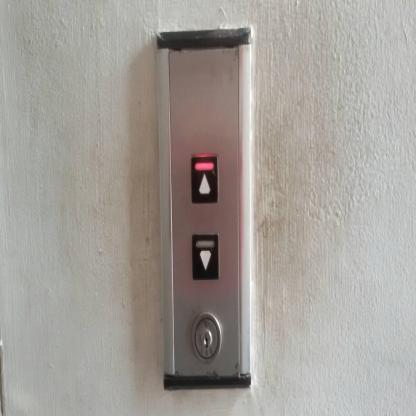down: (190, 228, 220, 286)
keyhole: (191, 310, 222, 366)
up: (189, 150, 219, 208)
